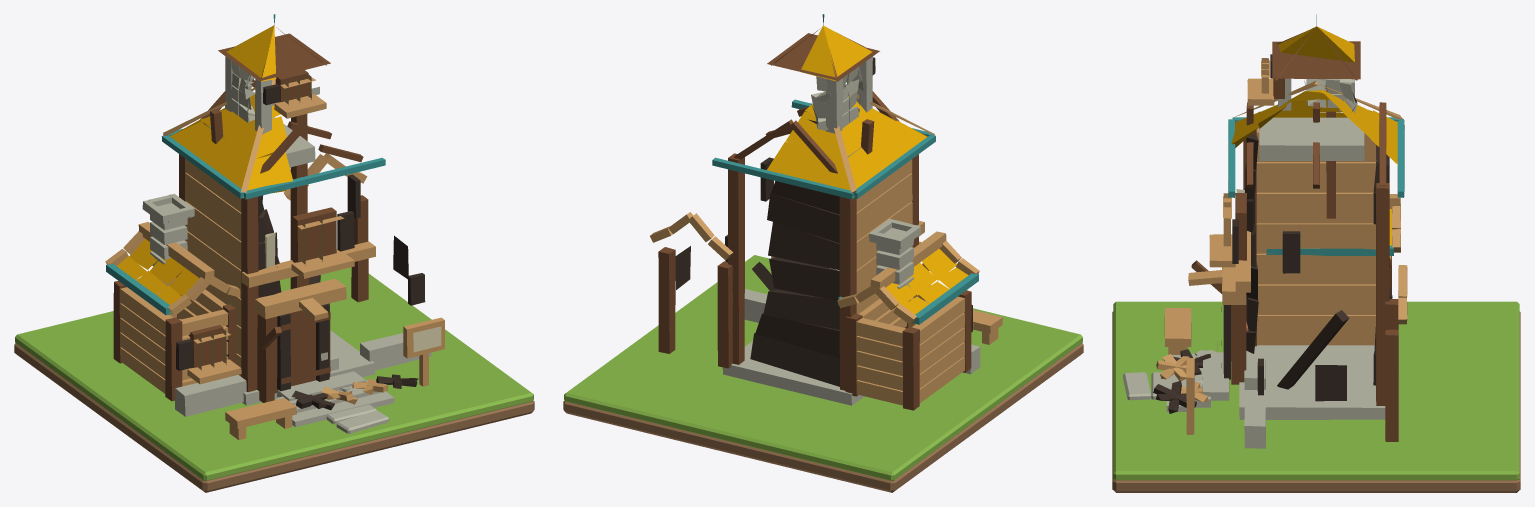
Rendered from town_hall_l06_damaged_LOD2.glb.
3 renders of one model, left to right at view 1: azimuth 30°, elevation 25°; view 2: azimuth 150°, elevation 25°; view 3: azimuth 270°, elevation 25°, orthographic. The views are drawn at different scales.
Visible parts, largest first — view 1: town_hall_l06_damaged_foundation.001, town_hall_l06_damaged_grass_tile.001, town_hall_l06_damaged_earth_tile.001, town_hall_l06_damaged_path_stone.005; view 2: town_hall_l06_damaged_foundation.001, town_hall_l06_damaged_grass_tile.001, town_hall_l06_damaged_earth_tile.001; view 3: town_hall_l06_damaged_foundation.001, town_hall_l06_damaged_grass_tile.001, town_hall_l06_damaged_earth_tile.001, town_hall_l06_damaged_path_stone.005.
Boxes of the visible parts, x1,y1,x2,y2 form: town_hall_l06_damaged_foundation.001: (105,14,445,439); town_hall_l06_damaged_grass_tile.001: (15,267,533,480); town_hall_l06_damaged_earth_tile.001: (14,343,534,492); town_hall_l06_damaged_path_stone.005: (336,410,389,433); town_hall_l06_damaged_foundation.001: (650,14,1002,410); town_hall_l06_damaged_grass_tile.001: (564,255,1082,480); town_hall_l06_damaged_earth_tile.001: (563,343,1083,492); town_hall_l06_damaged_foundation.001: (1153,14,1407,448); town_hall_l06_damaged_grass_tile.001: (1113,301,1519,480); town_hall_l06_damaged_earth_tile.001: (1112,311,1520,492); town_hall_l06_damaged_path_stone.005: (1123,372,1151,400).
Size of the model in its own units: 3.6 by 3.83 by 3.6.
